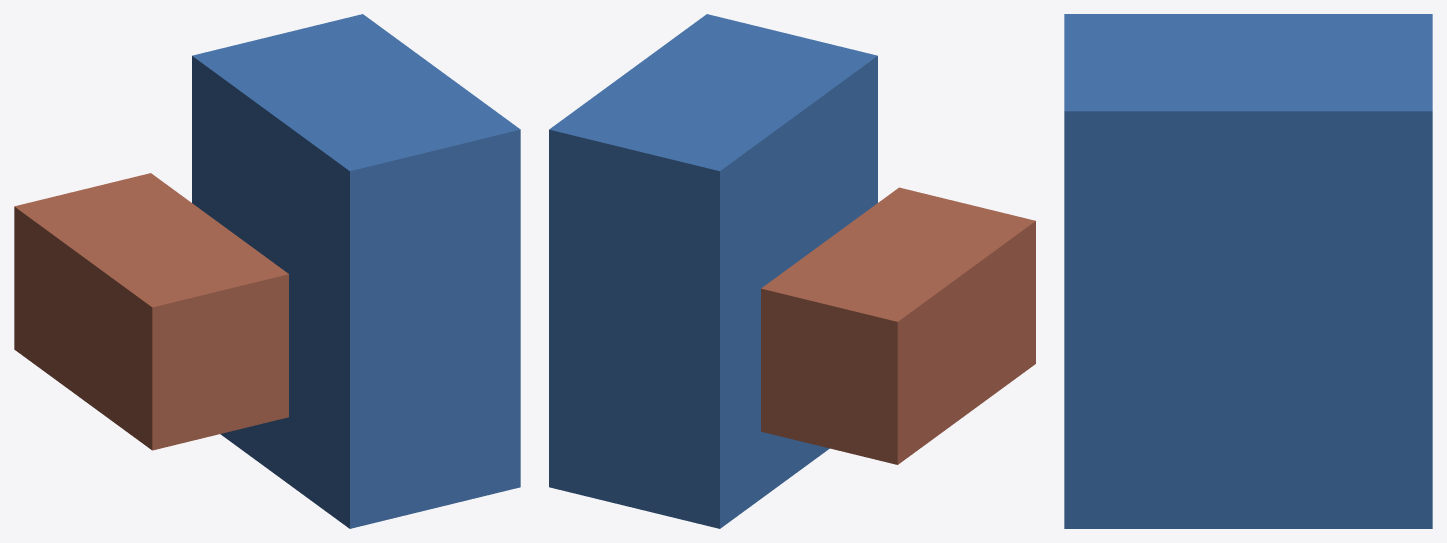
3 views of the same model, side by side, from view 1: azimuth 30°, elevation 25°; view 2: azimuth 150°, elevation 25°; view 3: azimuth 270°, elevation 25° (orthographic). The views are drawn at different scales.
Parts seen in each view (by area): view 1: desk, chair; view 2: desk, chair; view 3: desk.
Boxes of the visible parts, x1,y1,x2,y2 form: desk: (192,14,520,528); chair: (14,173,288,450); desk: (549,14,877,528); chair: (761,187,1035,464); desk: (1064,14,1432,528).
Bounding box in the file's own units: 1.02 × 1 × 0.8.
